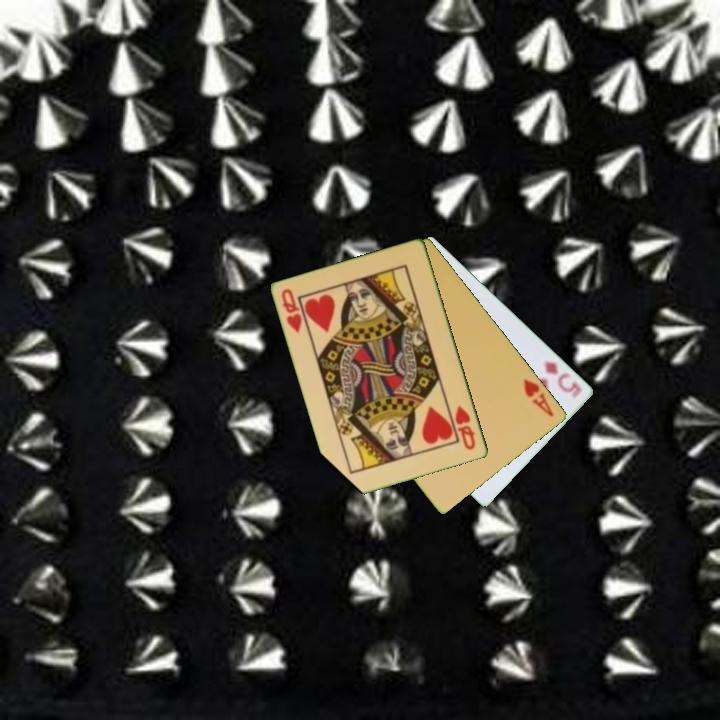5d: (541, 357, 585, 401)
Ah: (520, 375, 557, 420)
Qh: (452, 402, 479, 453), (278, 285, 305, 336)
